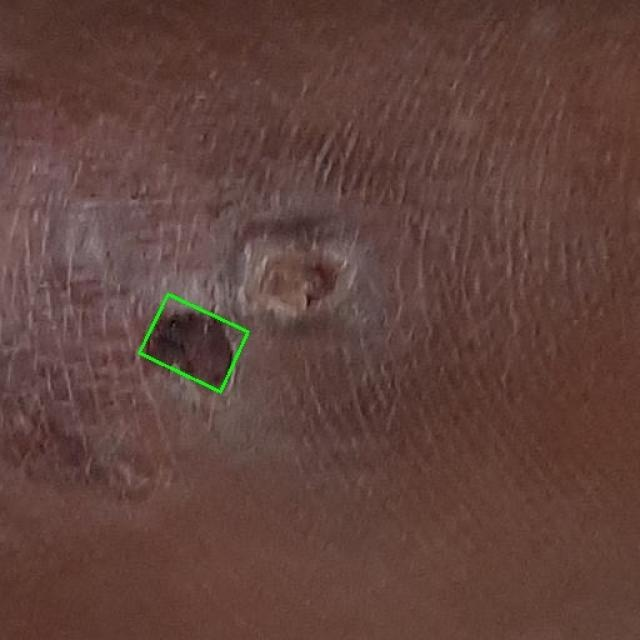Eczema: (139, 294, 248, 391)
